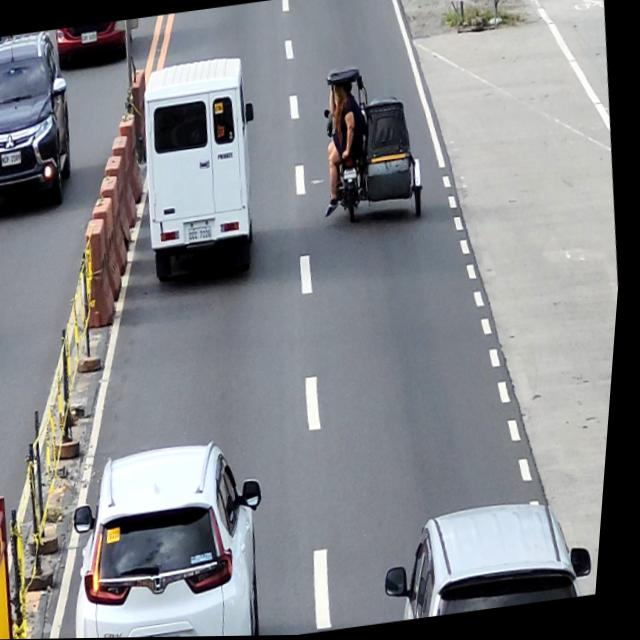Car: (63, 433, 291, 639), (129, 52, 277, 284), (383, 492, 608, 624), (0, 28, 87, 220), (52, 19, 135, 73), (0, 36, 8, 95)
License-Plate: (190, 225, 217, 244), (1, 150, 25, 167), (80, 30, 99, 45), (345, 168, 360, 181)
Tricycle: (311, 58, 436, 230)
